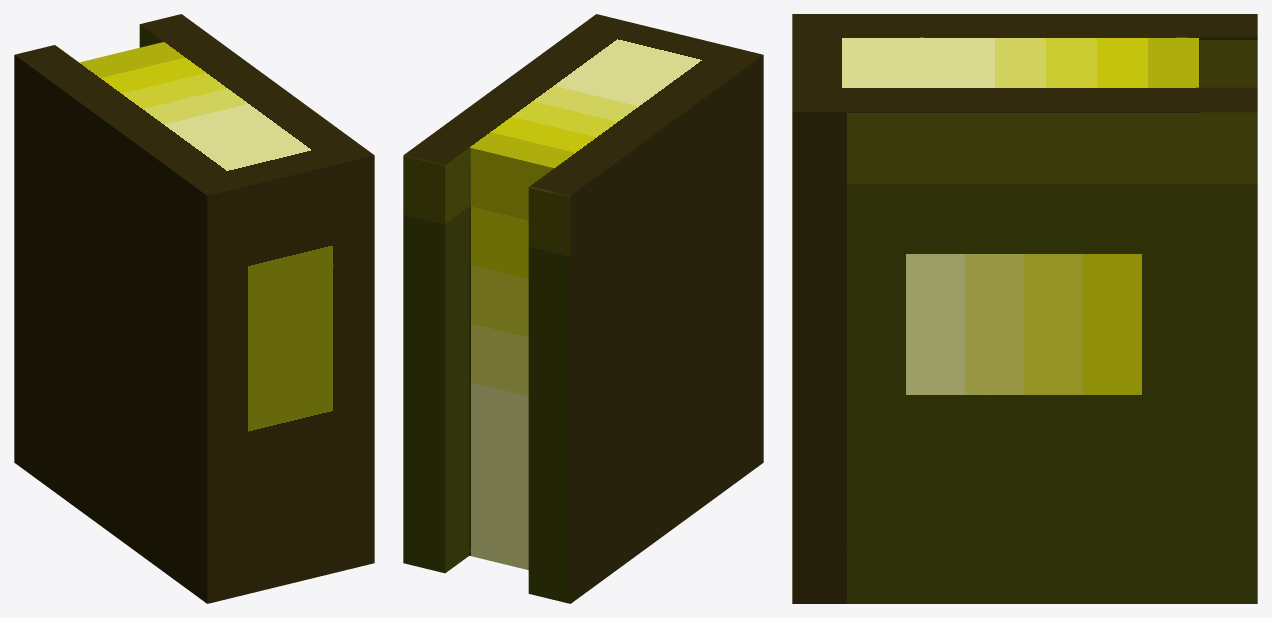
File: book_642x02.obj
3 renders of one model, left to right at view 1: azimuth 30°, elevation 25°; view 2: azimuth 150°, elevation 25°; view 3: azimuth 270°, elevation 25°, orthographic. The views are drawn at different scales.
Parts seen in each view (by area): view 1: Cube; view 2: Cube; view 3: Cube.
Boxes of the visible parts, <box> form: Cube: <box>14,14,374,603</box>; Cube: <box>403,14,763,603</box>; Cube: <box>792,14,1257,603</box>.
Size of the model in its own units: 0.5 by 1.17 by 1.
